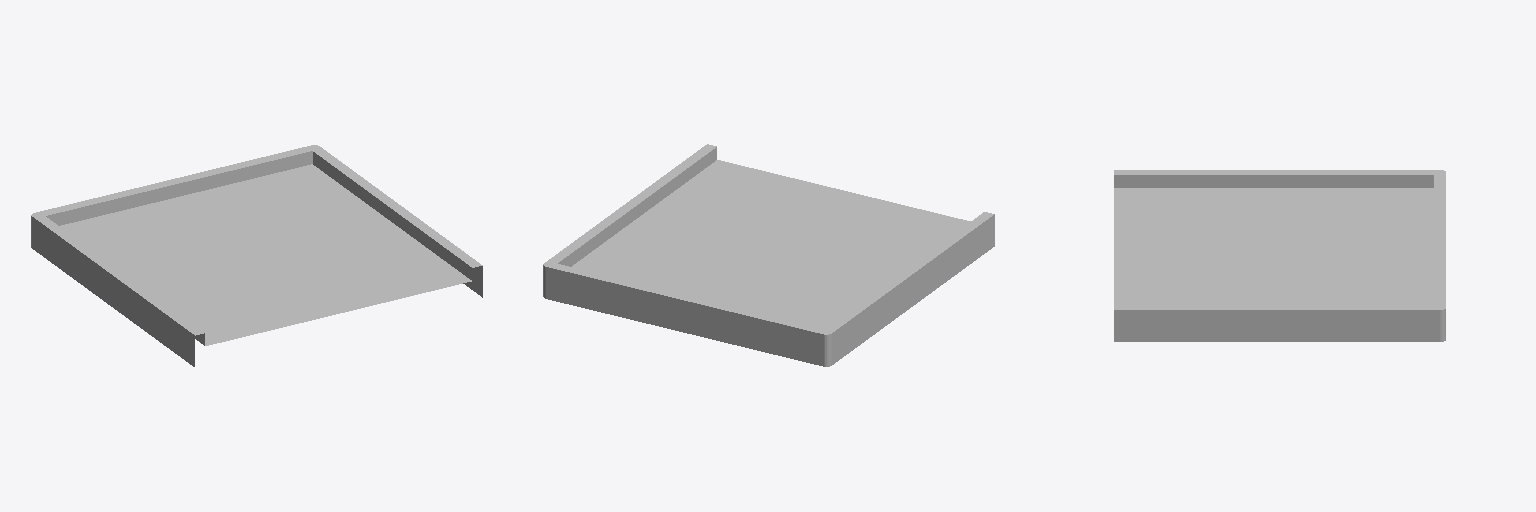
The model's file is blankEnd_A_3x3.obj.
3 views of the same model, side by side, from view 1: azimuth 30°, elevation 25°; view 2: azimuth 150°, elevation 25°; view 3: azimuth 270°, elevation 25° (orthographic).
Visible parts, largest first — view 1: modelPanel2ViewSelectedSet blankEnd_A_3x3; view 2: modelPanel2ViewSelectedSet blankEnd_A_3x3; view 3: modelPanel2ViewSelectedSet blankEnd_A_3x3.
Part boxes in pixels (left/top/right/bottom): modelPanel2ViewSelectedSet blankEnd_A_3x3: left=31, top=145, right=482, bottom=366; modelPanel2ViewSelectedSet blankEnd_A_3x3: left=543, top=144, right=994, bottom=366; modelPanel2ViewSelectedSet blankEnd_A_3x3: left=1114, top=170, right=1445, bottom=341.
Bounding box in the file's own units: 3 × 0.3215 × 3.